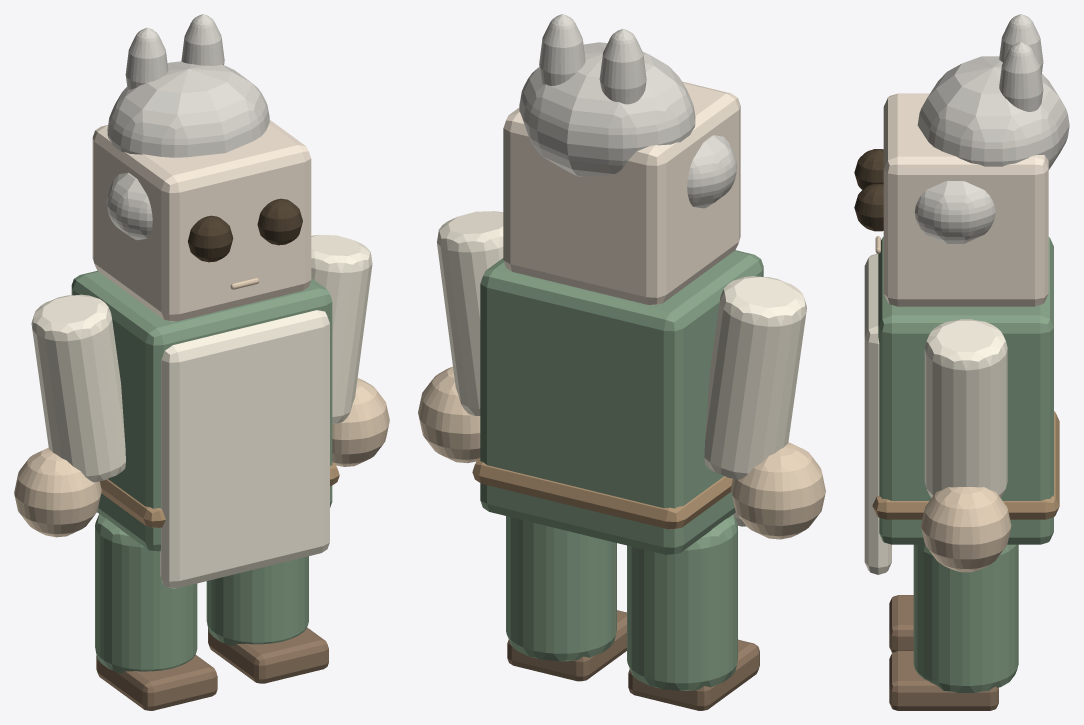
Rendered from npc_maud.glb.
3 views of the same model, side by side, from view 1: azimuth 30°, elevation 25°; view 2: azimuth 150°, elevation 25°; view 3: azimuth 270°, elevation 25° (orthographic). The views are drawn at different scales.
Visible parts, largest first — view 1: Apron, Head, Body, Arm_L, Hair_Bun, Leg_L, Leg_R, Arm_R, Hand_L, Boot_L, Boot_R, Hand_R (+6 smaller); view 2: Body, Head, Arm_L, Leg_L, Leg_R, Hair_Bun, Arm_R, Hand_L, Belt, Hand_R, Hair_Spike1, Boot_L (+3 smaller); view 3: Head, Body, Arm_R, Leg_R, Hair_Bun, Hand_R, Apron, Hair_SideR, Boot_R, Belt, Hair_Spike2, Boot_L (+3 smaller).
Part boxes in pixels (x1,y1,x2,y2): Apron: (160,310,329,588); Head: (92,120,311,321); Body: (71,270,332,551); Arm_L: (31,294,125,482); Hair_Bun: (107,61,269,157); Leg_L: (95,514,197,673); Leg_R: (206,556,308,646); Arm_R: (311,234,372,424); Hand_L: (14,447,101,537); Boot_L: (96,654,217,710); Boot_R: (208,627,328,683); Hand_R: (332,378,389,466); Body: (480,250,763,554); Head: (503,81,740,305); Arm_L: (704,276,806,479); Leg_L: (627,514,737,690); Leg_R: (506,516,616,661); Hair_Bun: (519,42,695,176); Arm_R: (437,211,503,416); Hand_L: (731,442,825,539); Belt: (472,457,732,529); Hand_R: (418,366,480,463); Hair_Spike1: (599,29,646,104); Boot_L: (628,639,759,710); Head: (883,93,1048,306); Body: (878,237,1053,544); Arm_R: (924,319,1007,497); Leg_R: (913,544,1018,692); Hair_Bun: (917,56,1069,169); Hand_R: (921,487,1011,572); Apron: (864,253,891,574); Hair_SideR: (914,181,995,243); Boot_R: (889,651,998,710); Belt: (872,411,1059,519); Hair_Spike2: (999,42,1043,111); Boot_L: (889,595,913,652).
Size of the model in its own units: 0.7817 by 1.29 by 0.3921.
